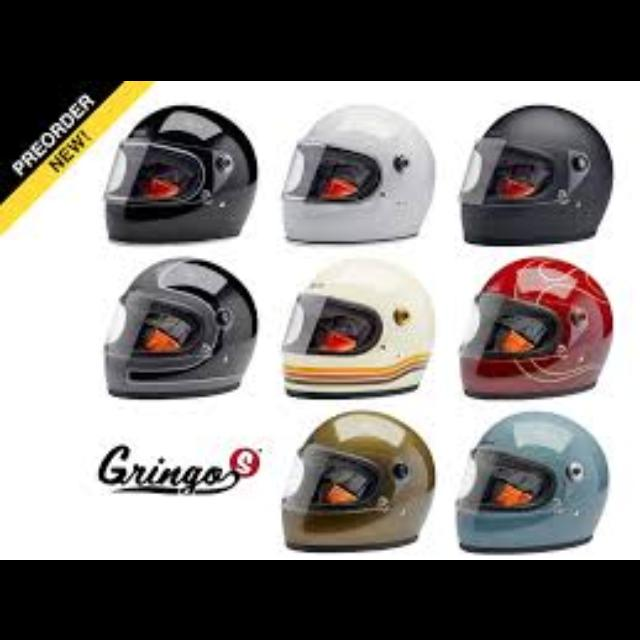motorcycle-helmets: (460, 255, 610, 396), (104, 258, 255, 396), (460, 105, 610, 243), (282, 411, 432, 549), (104, 105, 255, 241), (457, 411, 605, 549), (282, 105, 432, 241), (282, 258, 432, 394)
